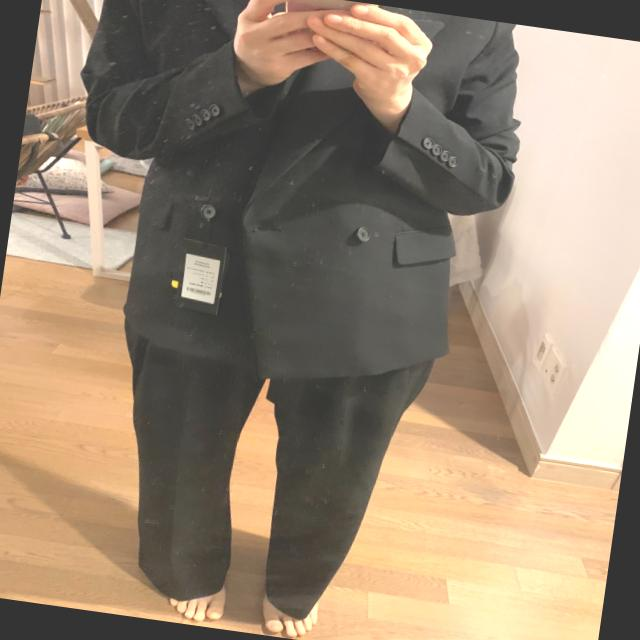slacks: (38, 0, 538, 401), (87, 232, 441, 622)
